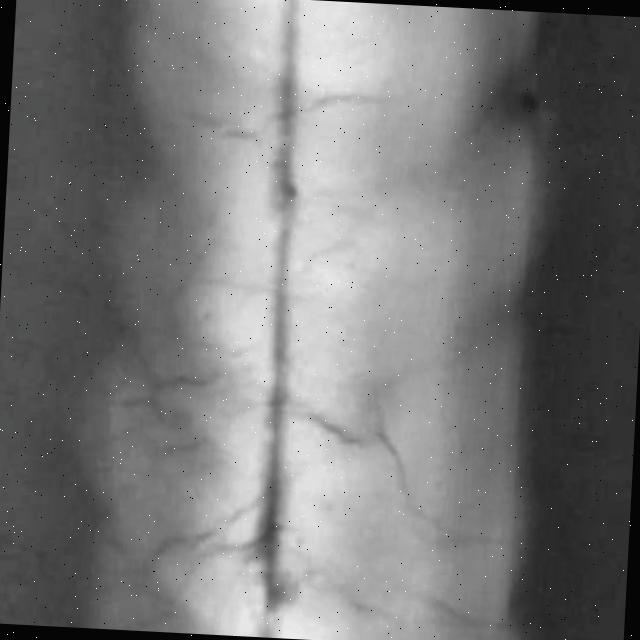Crack: (296, 388, 522, 564), (89, 298, 262, 465), (60, 500, 248, 620), (298, 164, 449, 300), (125, 196, 272, 330), (139, 62, 277, 165), (308, 68, 424, 124)
LoP-LoF: (238, 0, 331, 639)
